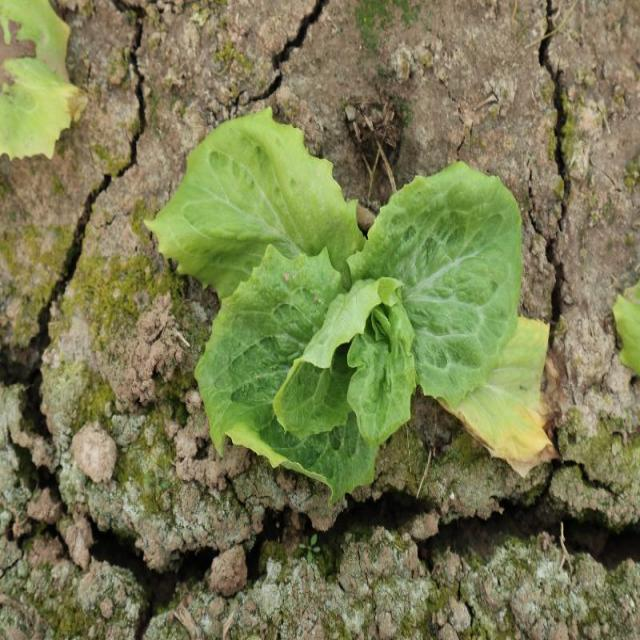crop: (145, 102, 556, 501)
